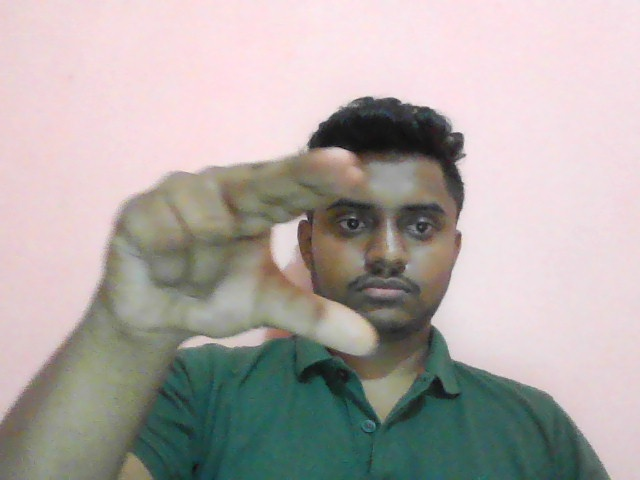No: (86, 142, 391, 364)
